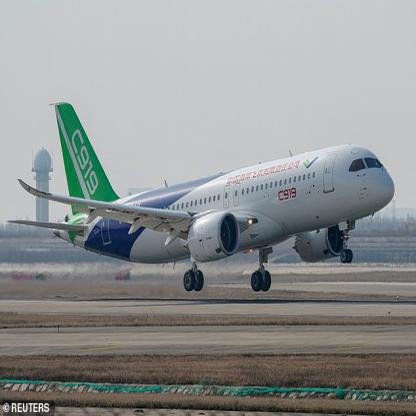CIV_Plane: (11, 93, 396, 300)
